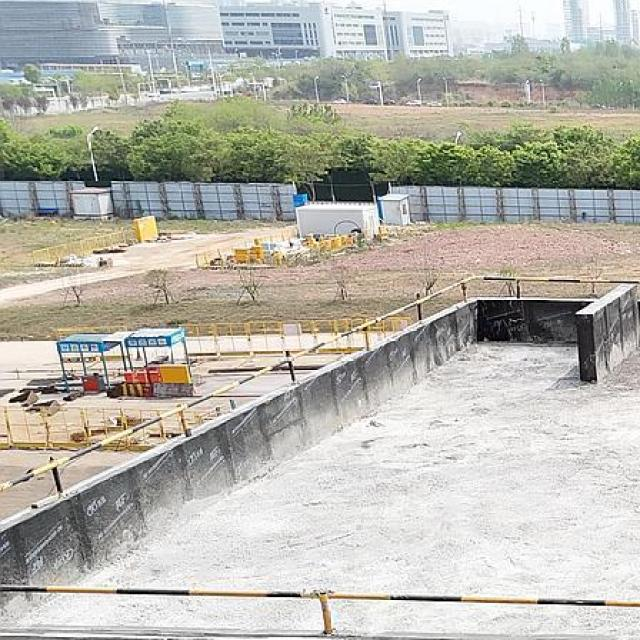edge_guardrail: (0, 271, 640, 495), (0, 583, 640, 636)
